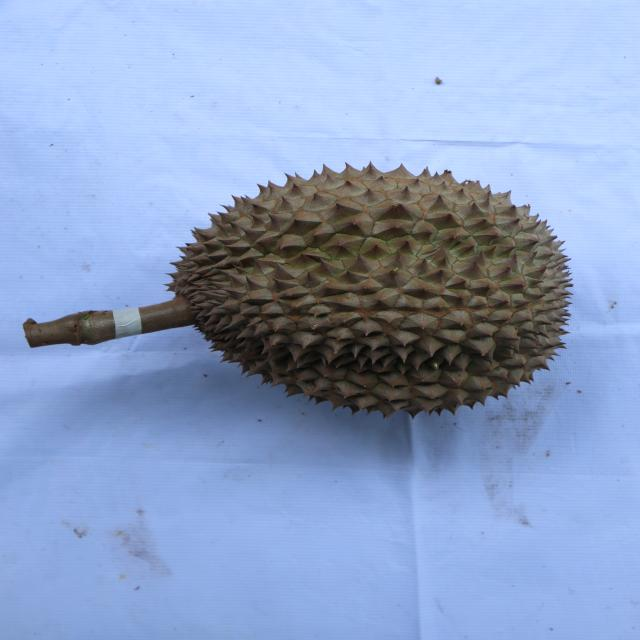mature: (159, 156, 578, 425)
